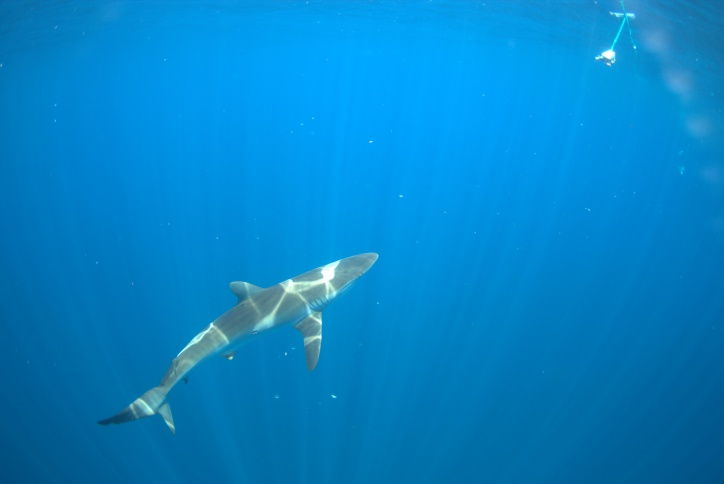Sedoso: (92, 230, 383, 450)
